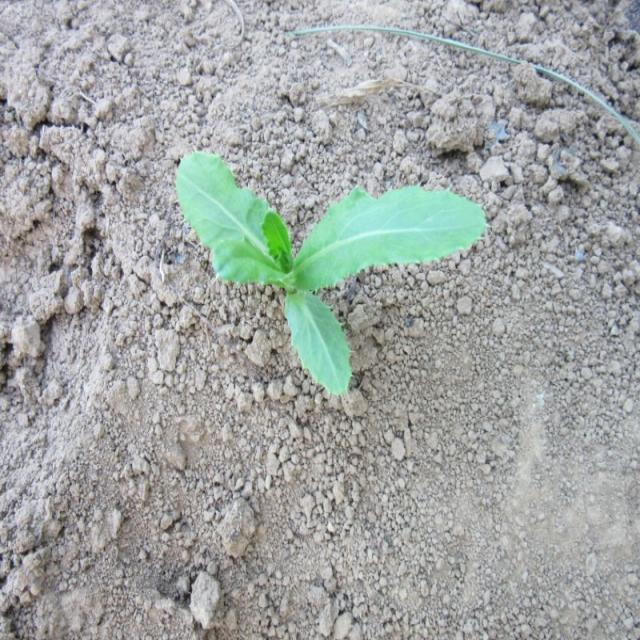cs: (174, 147, 488, 398)
